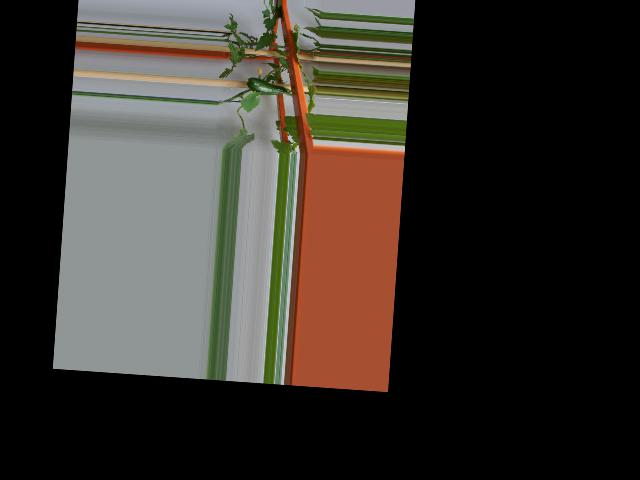cucumber: (242, 76, 285, 96)
